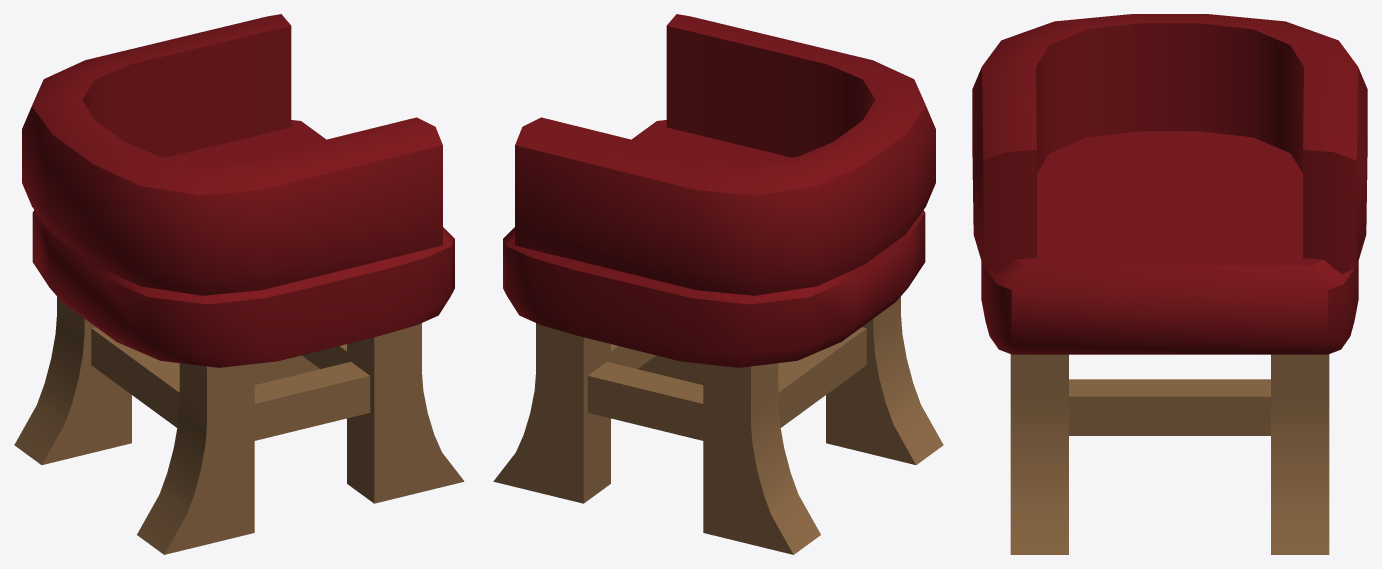
Rendered from chair.glb.
3 views of the same model, side by side, from view 1: azimuth 30°, elevation 25°; view 2: azimuth 150°, elevation 25°; view 3: azimuth 270°, elevation 25° (orthographic). The views are drawn at different scales.
Parts seen in each view (by area): view 1: Environment_Chair2; view 2: Environment_Chair2; view 3: Environment_Chair2.
Part boxes in pixels (x1,y1,x2,y2): Environment_Chair2: (14,14,464,554); Environment_Chair2: (493,14,943,554); Environment_Chair2: (972,14,1367,554).
Size of the model in its own units: 0.9825 by 1.05 by 0.977.
